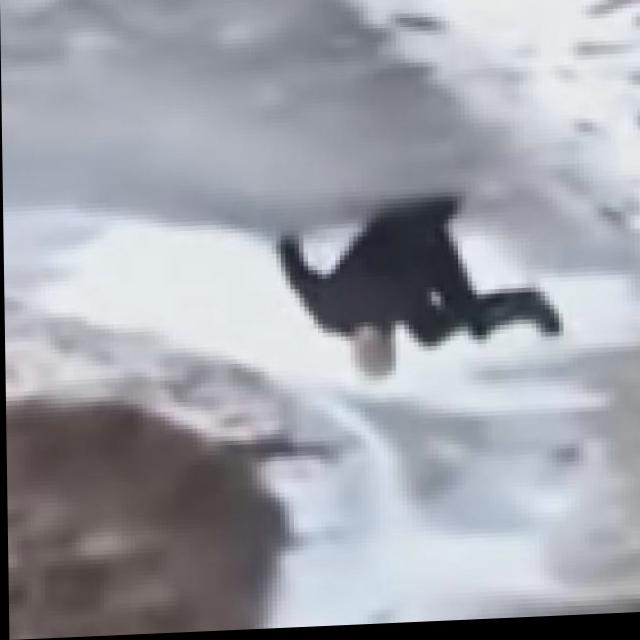fall: (271, 197, 576, 388)
